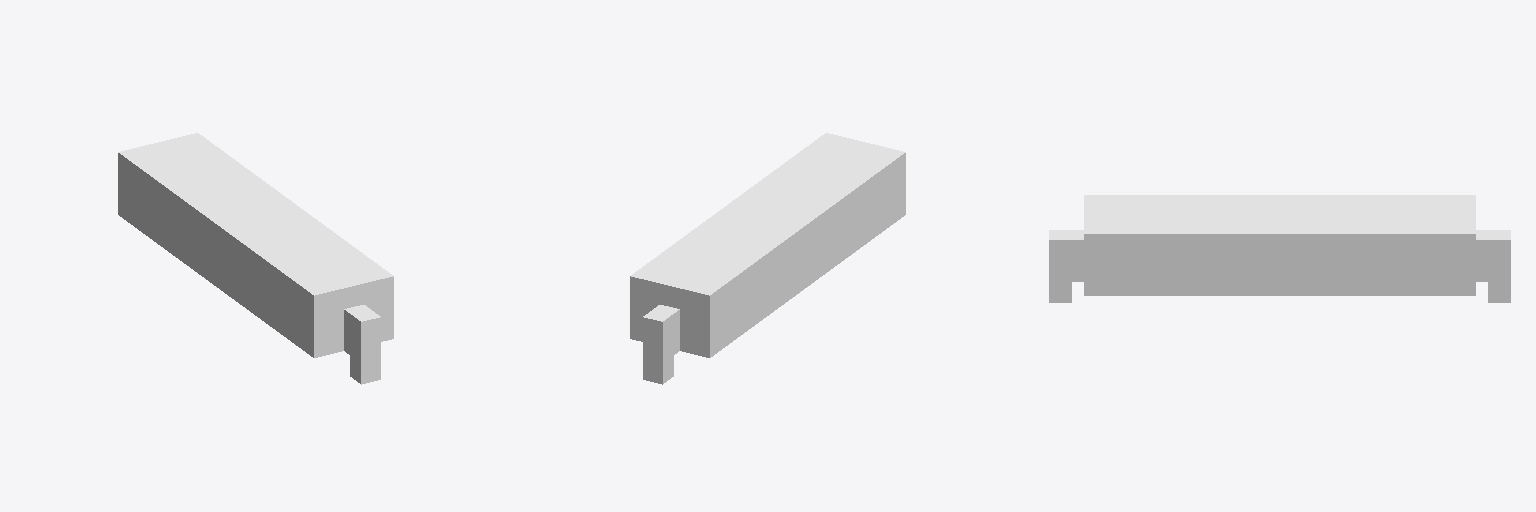
Rendered from rez1.obj.
3 renders of one model, left to right at view 1: azimuth 30°, elevation 25°; view 2: azimuth 150°, elevation 25°; view 3: azimuth 270°, elevation 25°, orthographic.
Parts seen in each view (by area): view 1: object 1; view 2: object 1; view 3: object 1.
Boxes of the visible parts, box(x1,y1,x2,y2) form: object 1: box(118, 133, 393, 384); object 1: box(630, 133, 905, 384); object 1: box(1049, 195, 1510, 302).
Size of the model in its own units: 0.8 by 0.8 by 4.